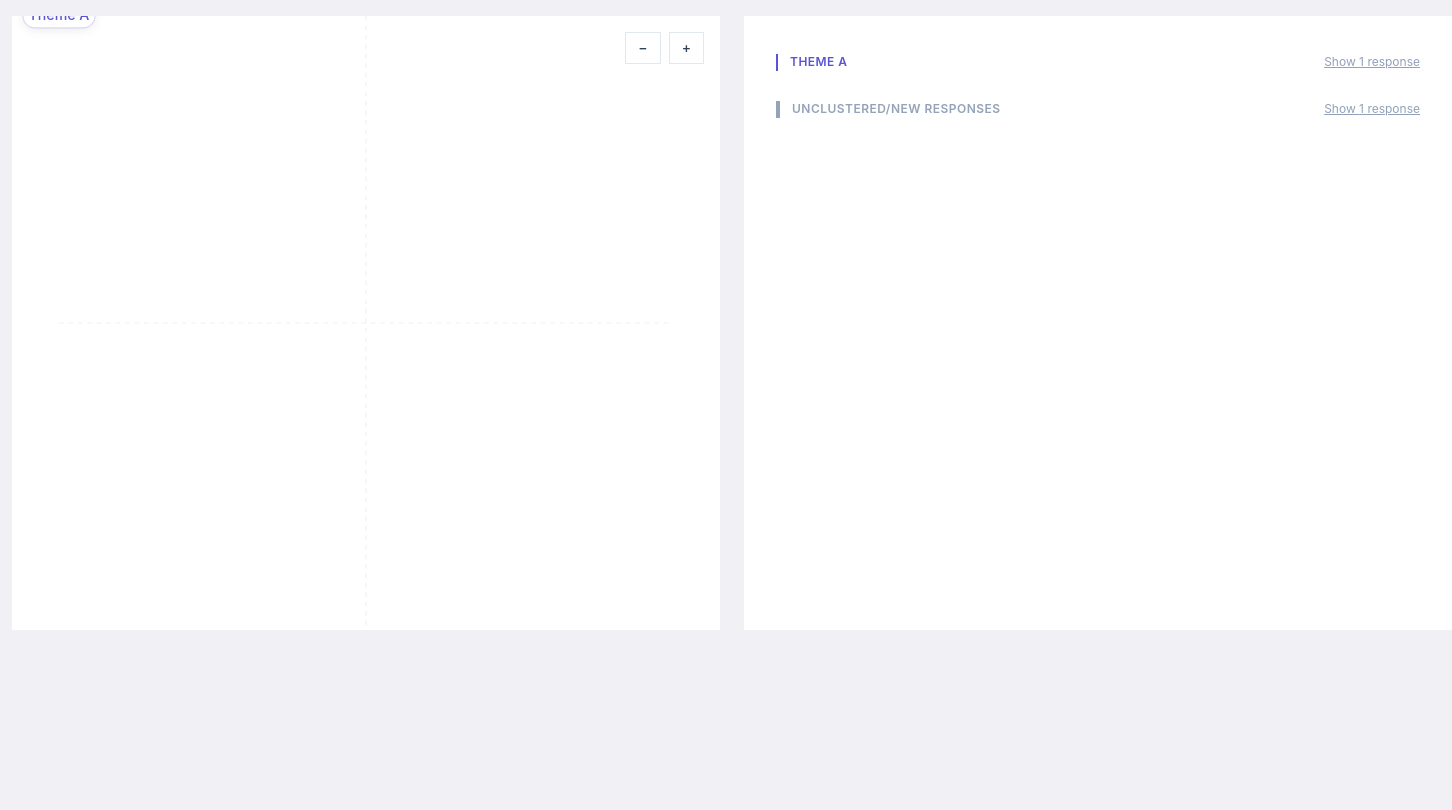
Test: UnderstandView theme filters › filters to unclustered responses when unclustered card is clicked
This screenshot has width=1452, height=810.
Note: Click "Show 1 response" for unclustered
Click the 2nd text "Show 1 response" at (1372, 109), box [1324,101,1420,117]
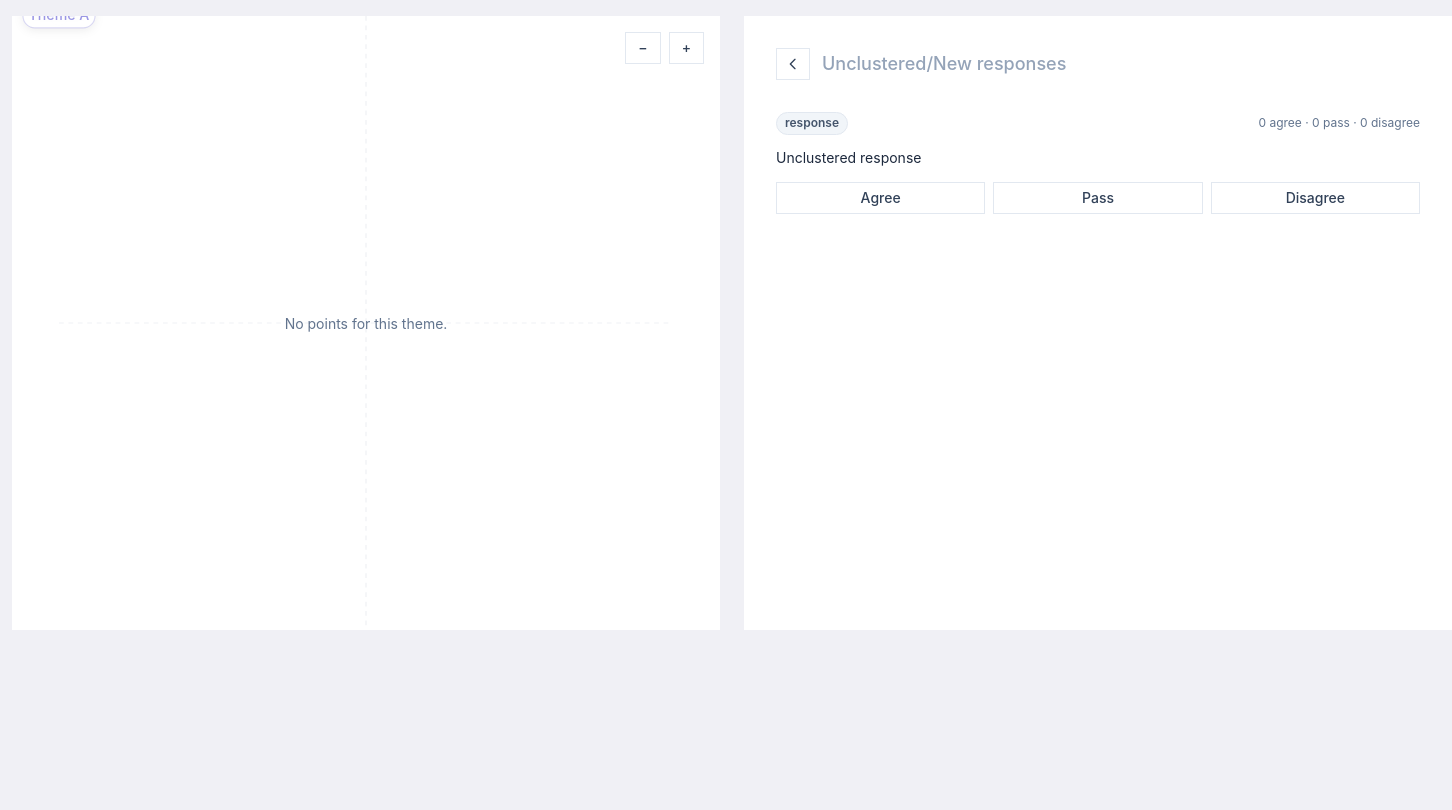
expect the text "Unclustered response" is shown: met, box [776,149,922,166]
